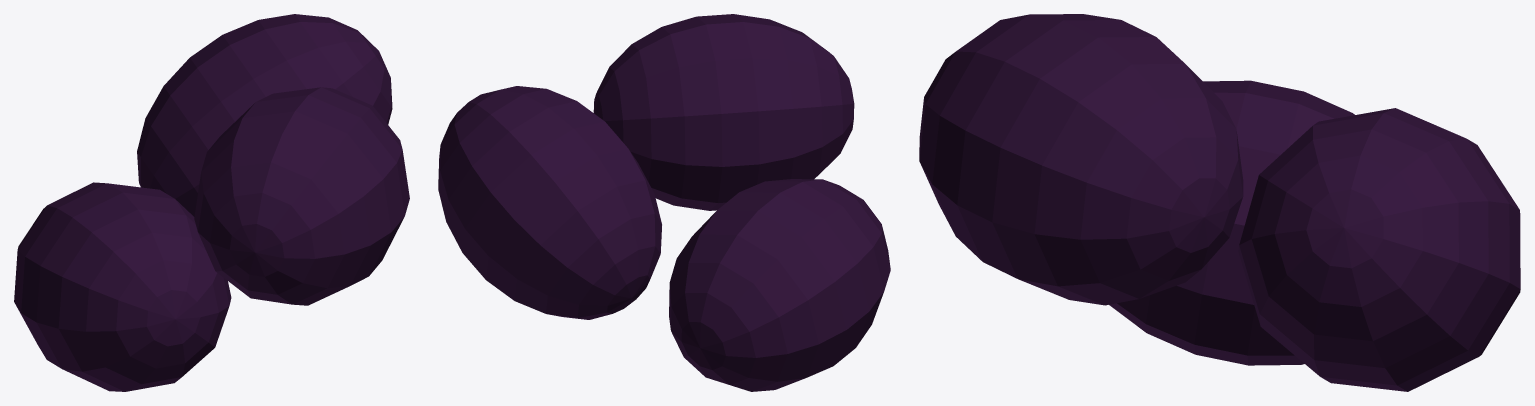
File: BerriBarbar.fbx
3 views of the same model, side by side, from view 1: azimuth 30°, elevation 25°; view 2: azimuth 150°, elevation 25°; view 3: azimuth 270°, elevation 25° (orthographic). The views are drawn at different scales.
Visible parts, largest first — view 1: Sphere.010; view 2: Sphere.010; view 3: Sphere.010.
Part boxes in pixels (x1=…): Sphere.010: x1=14, y1=14, x2=409, y2=391; Sphere.010: x1=438, y1=14, x2=890, y2=391; Sphere.010: x1=919, y1=14, x2=1520, y2=391.
Bounding box in the file's own units: 48.96 × 34.69 × 47.39.
